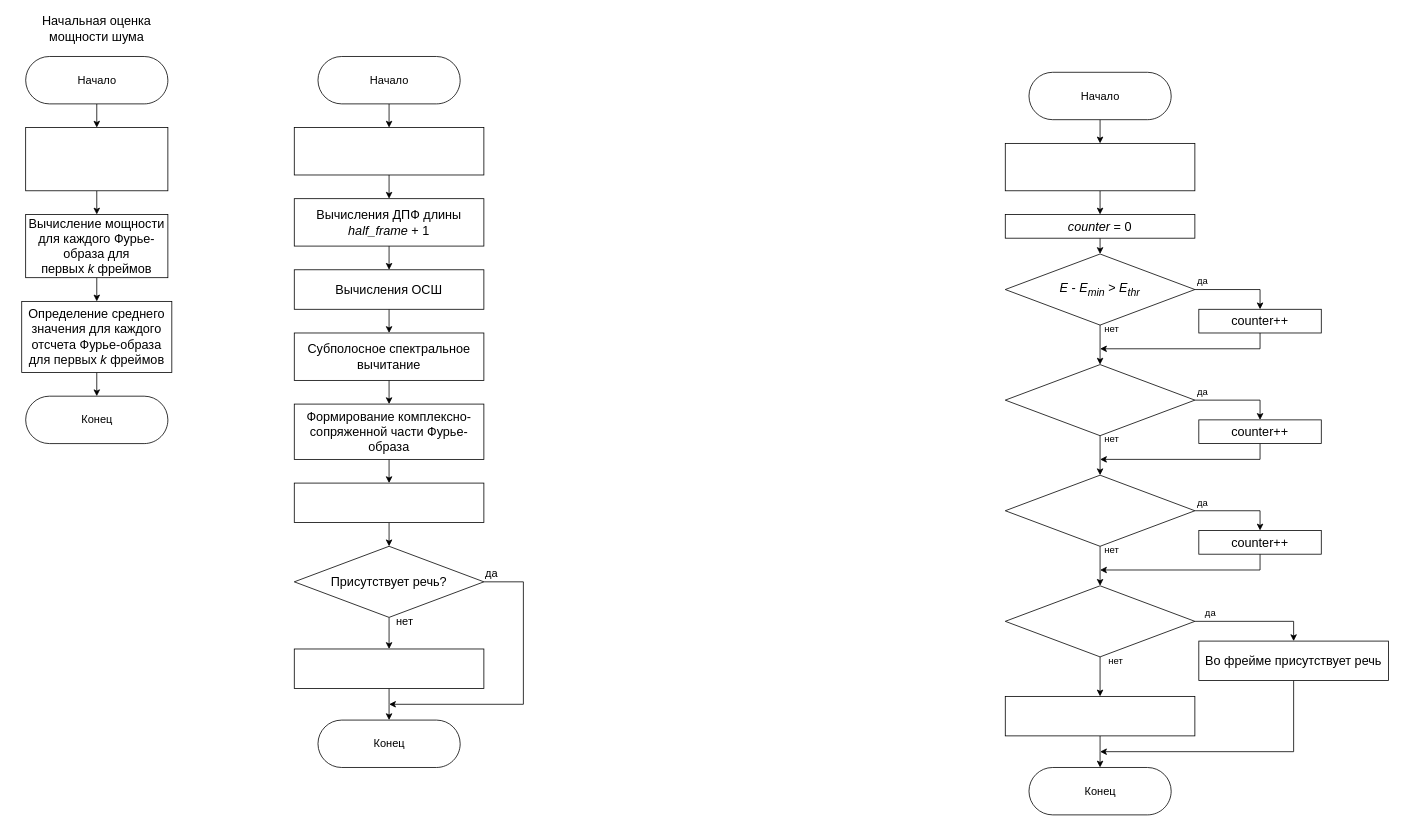
Image size: 1402x829. Some labels were removed from this diagram. Each missing label, with the centre of its shape:
counter > 0: the point at 1099,621
F - F min > F thr: the point at 1099,400
SFM - SFM min > SFM thr: the point at 1099,510
Во фрейме отсутствует речь: the point at 1099,716
Вычисление значений E , F , SFM для текущего фрейма: the point at 1099,167
Вычисление ОБПФ: the point at 388,502
Вычисления ДПФ длины half_frame + 1 для первых k фреймов: the point at 96,159
Новая оценка уровня мощности шума: the point at 388,668
Определение наличия речи во фрейме: the point at 388,151
